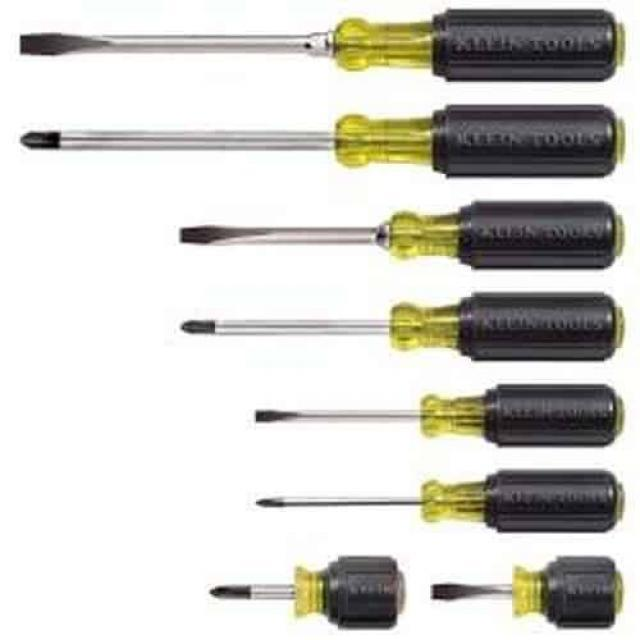screwdriver: (14, 3, 632, 89), (15, 100, 628, 184), (176, 282, 624, 364), (162, 198, 628, 269), (253, 376, 626, 457), (252, 467, 625, 531), (204, 549, 412, 635), (427, 550, 630, 634)
